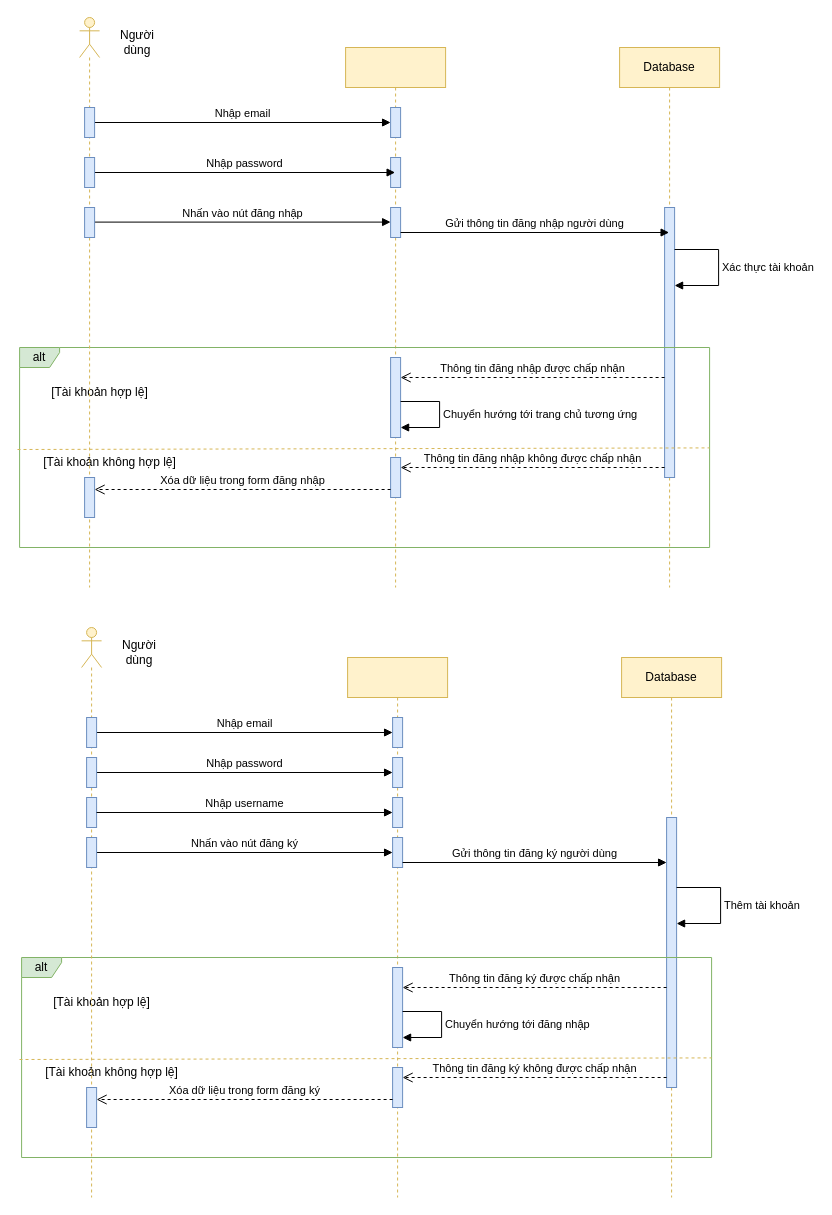
Image size: 832x1215. Some labels were removed from this diagram. The shapes that lost their labels are listed below. From the top down, each one's box as (x1, y1, x2, y2) in pixels, then its label:
(345, 46, 446, 588): :Login Page
(347, 656, 448, 1198): :Signup Page
